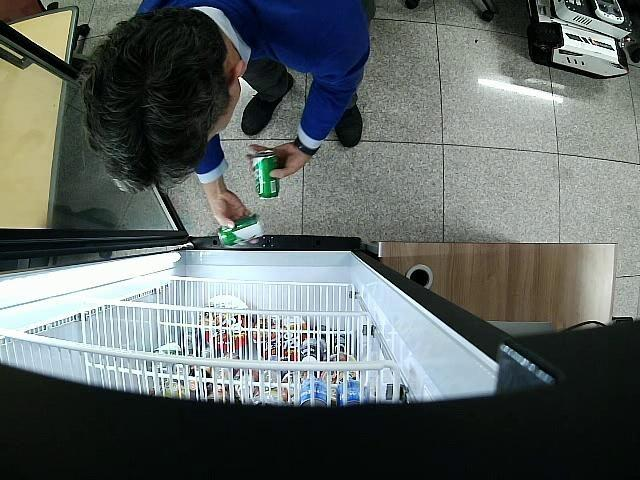12_chilsungCider: (217, 214, 264, 248), (252, 152, 280, 198)
